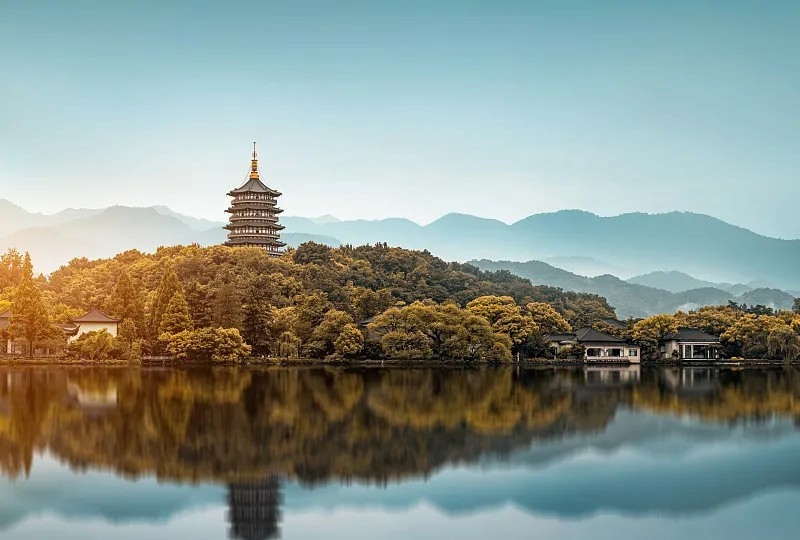Leifeng: (219, 140, 287, 257)
